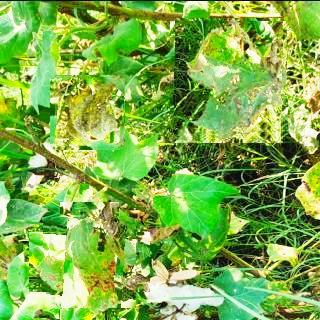blight: (43, 215, 136, 307)
leaf spot: (170, 20, 288, 139), (51, 75, 124, 147)
